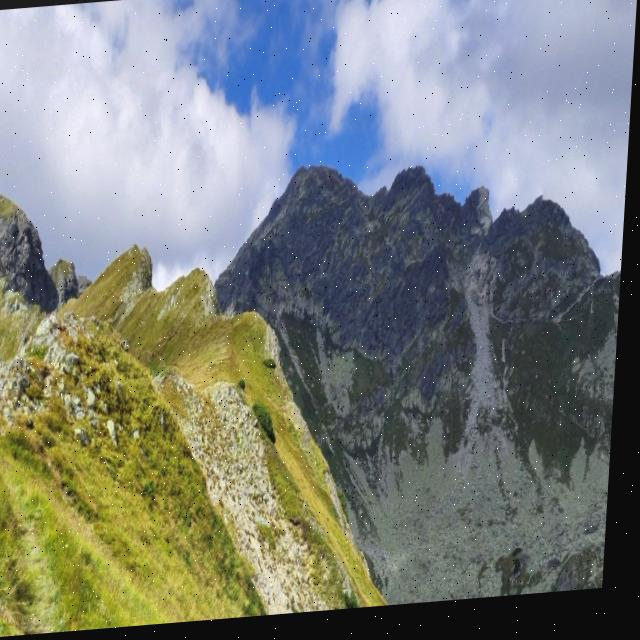Swinica: (230, 64, 404, 273)
